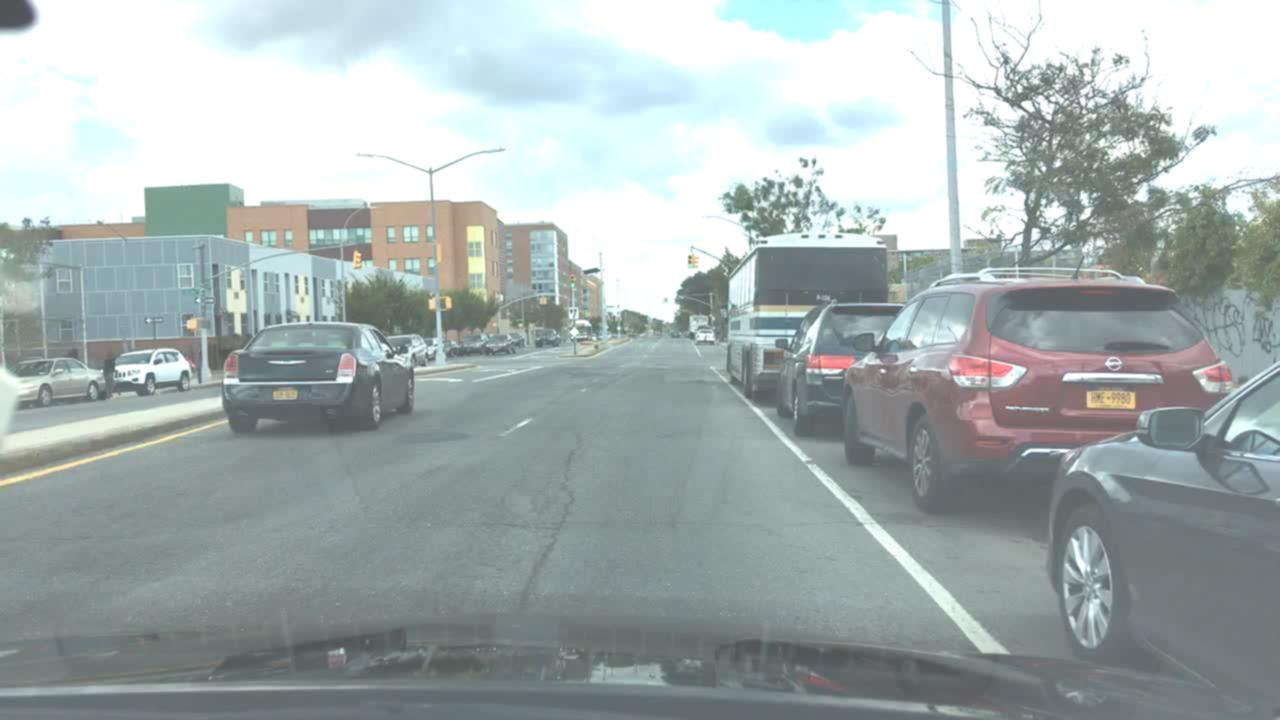Chrysler: (264, 355, 315, 369)
Nissan: (1100, 355, 1132, 377)
